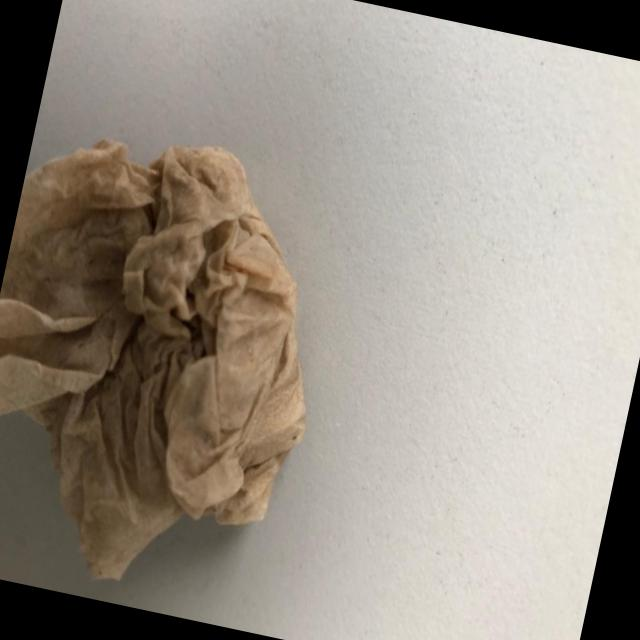organic waste: (0, 109, 359, 619)
